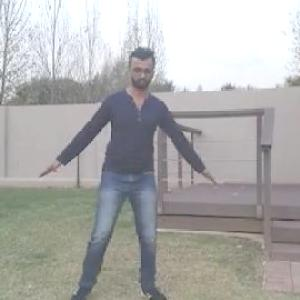land: (28, 44, 209, 299)
